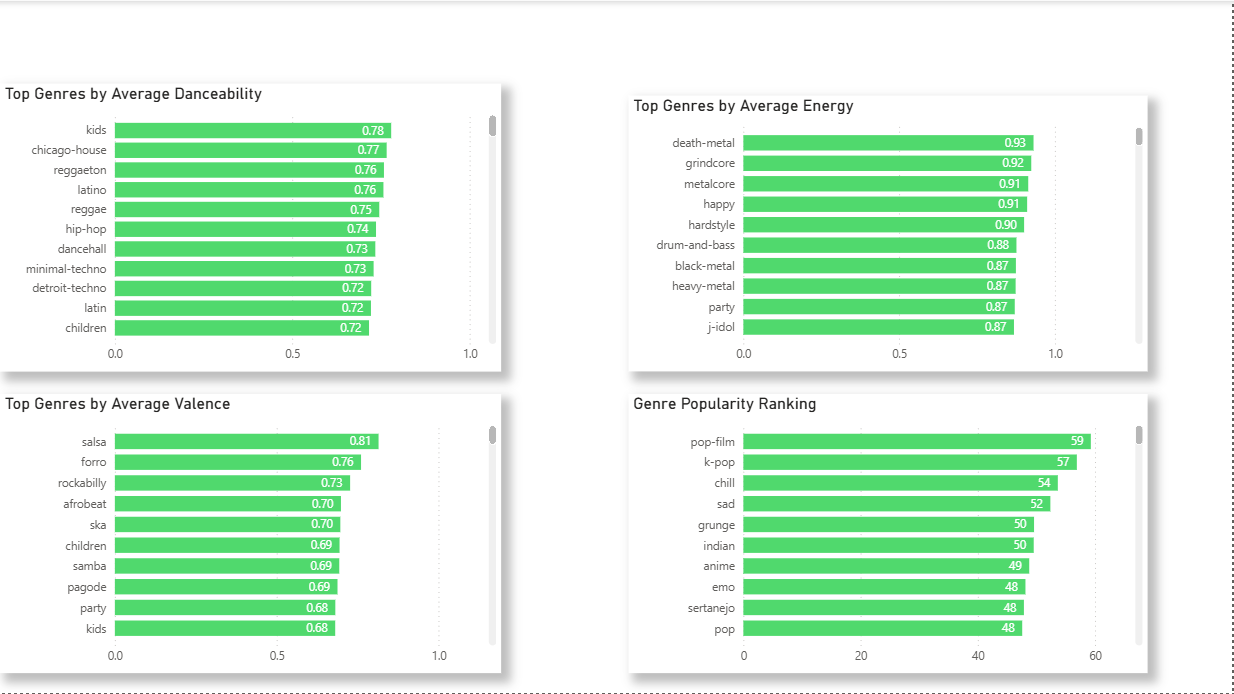

This screenshot's page, from the dashboard's own definition file:
{"tool":"powerbi","page":{"name":"Genre Profiles","canvas":[1280,720],"ordinal":2},"visuals":[{"type":"clusteredBarChart","title":"Top Genres by Average Danceability","fields":{"Category":["spotify-tracks-dataset.track_genre"],"Y":["spotify-tracks-dataset.Avg danceability"]},"box":[0,85.7,520.5,299.2],"z":0},{"type":"clusteredBarChart","title":"Top Genres by Average Energy","fields":{"Category":["spotify-tracks-dataset.track_genre"],"Y":["spotify-tracks-dataset.Avg energy"]},"box":[653,98.2,539.2,286.8],"z":1000},{"type":"clusteredBarChart","title":"Top Genres by Average Valence","fields":{"Category":["spotify-tracks-dataset.track_genre"],"Y":["spotify-tracks-dataset.Avg valence"]},"box":[0,408.3,520.5,289.9],"z":2000},{"type":"clusteredBarChart","title":"Genre Popularity Ranking","fields":{"Category":["spotify-tracks-dataset.track_genre"],"Y":["spotify-tracks-dataset.Avg popularity"]},"box":[653,408.3,539.2,289.9],"z":3000}]}

Visuals, with their boxes in screenshot pixels (x1, y1, x2, y2), scaled from the page's 1280x720 canvas onto the 1234x694 screenshot:
"Top Genres by Average Danceability" clusteredBarChart: x1=0 y1=83 x2=502 y2=371
"Top Genres by Average Energy" clusteredBarChart: x1=630 y1=95 x2=1149 y2=371
"Top Genres by Average Valence" clusteredBarChart: x1=0 y1=394 x2=502 y2=673
"Genre Popularity Ranking" clusteredBarChart: x1=630 y1=394 x2=1149 y2=673
